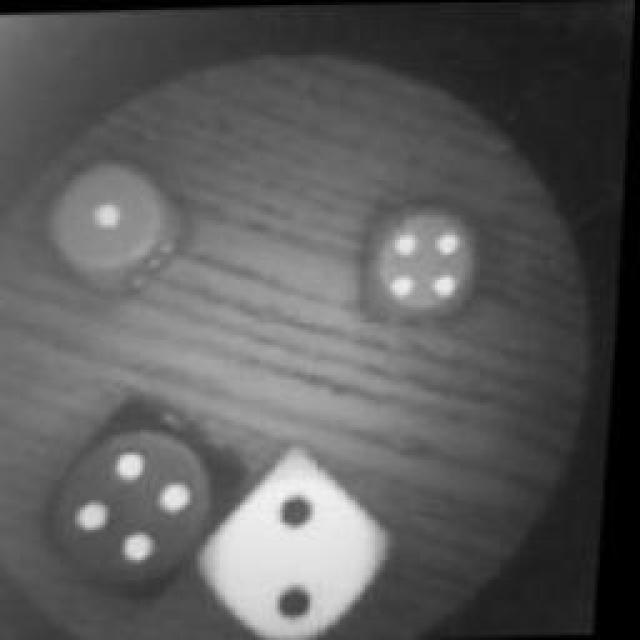dice_1: (45, 151, 187, 291)
dice_2: (200, 447, 400, 640)
dice_4: (44, 398, 238, 592), (361, 200, 491, 328)
